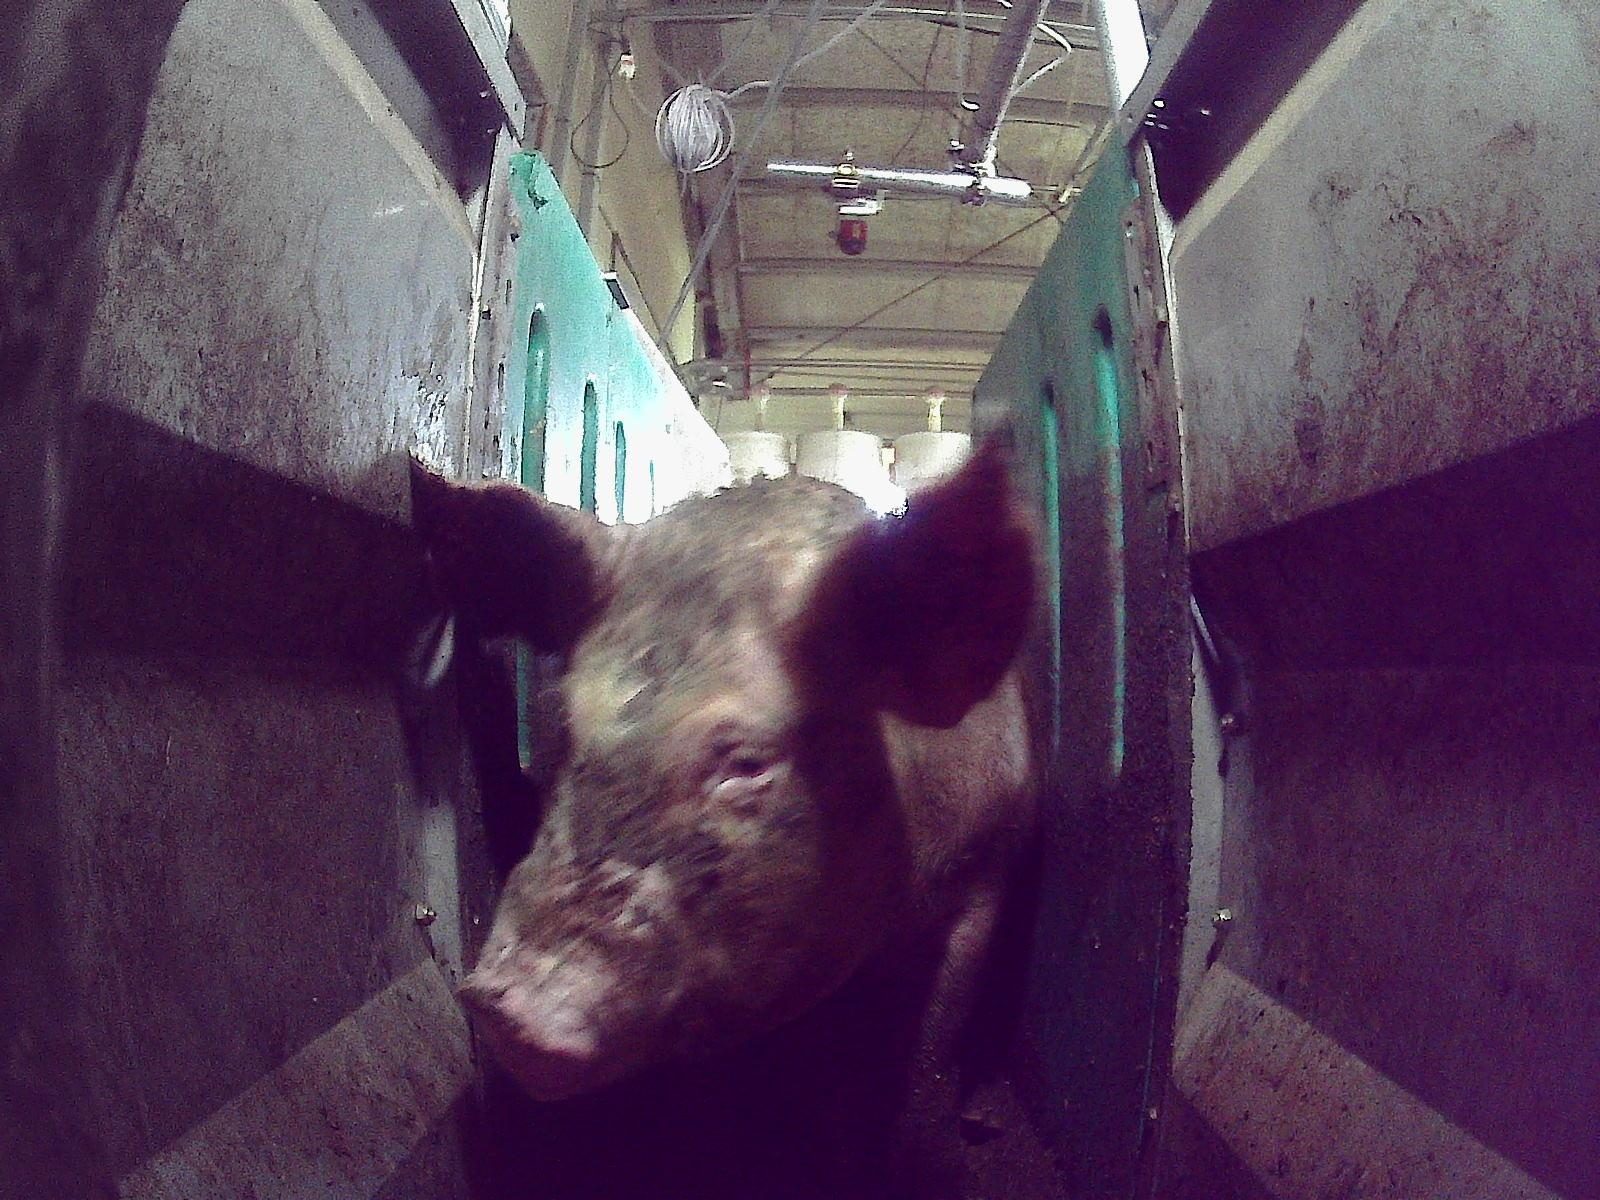Face: (452, 513, 886, 1107)
